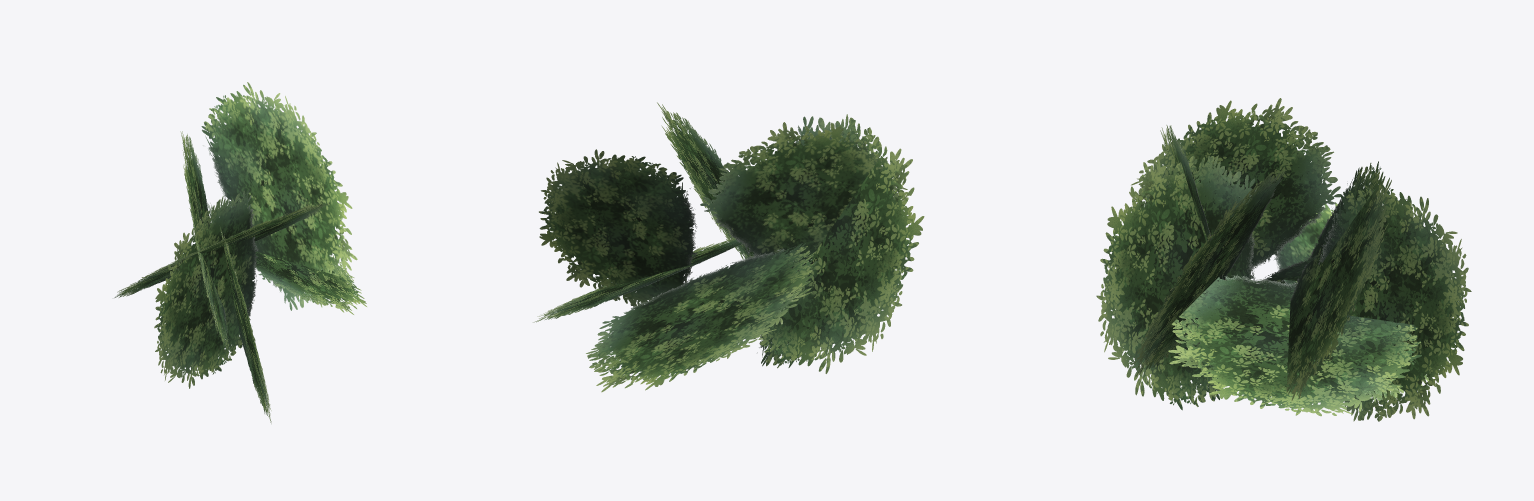
Rendered from Grass_2.fbx.
The picture shows the model from 3 angles, left to right: view 1: azimuth 30°, elevation 25°; view 2: azimuth 150°, elevation 25°; view 3: azimuth 270°, elevation 25°; orthographic projection. The views are drawn at different scales.
Visible parts, largest first — view 1: Plane.009; view 2: Plane.009; view 3: Plane.009.
Part boxes in pixels (x1,y1,x2,y2): Plane.009: [114, 82, 366, 423]; Plane.009: [533, 102, 924, 392]; Plane.009: [1096, 98, 1471, 421].
Bounding box in the file's own units: 7.68 × 6.85 × 7.19.
Materials: 1 (1 with a texture image).
